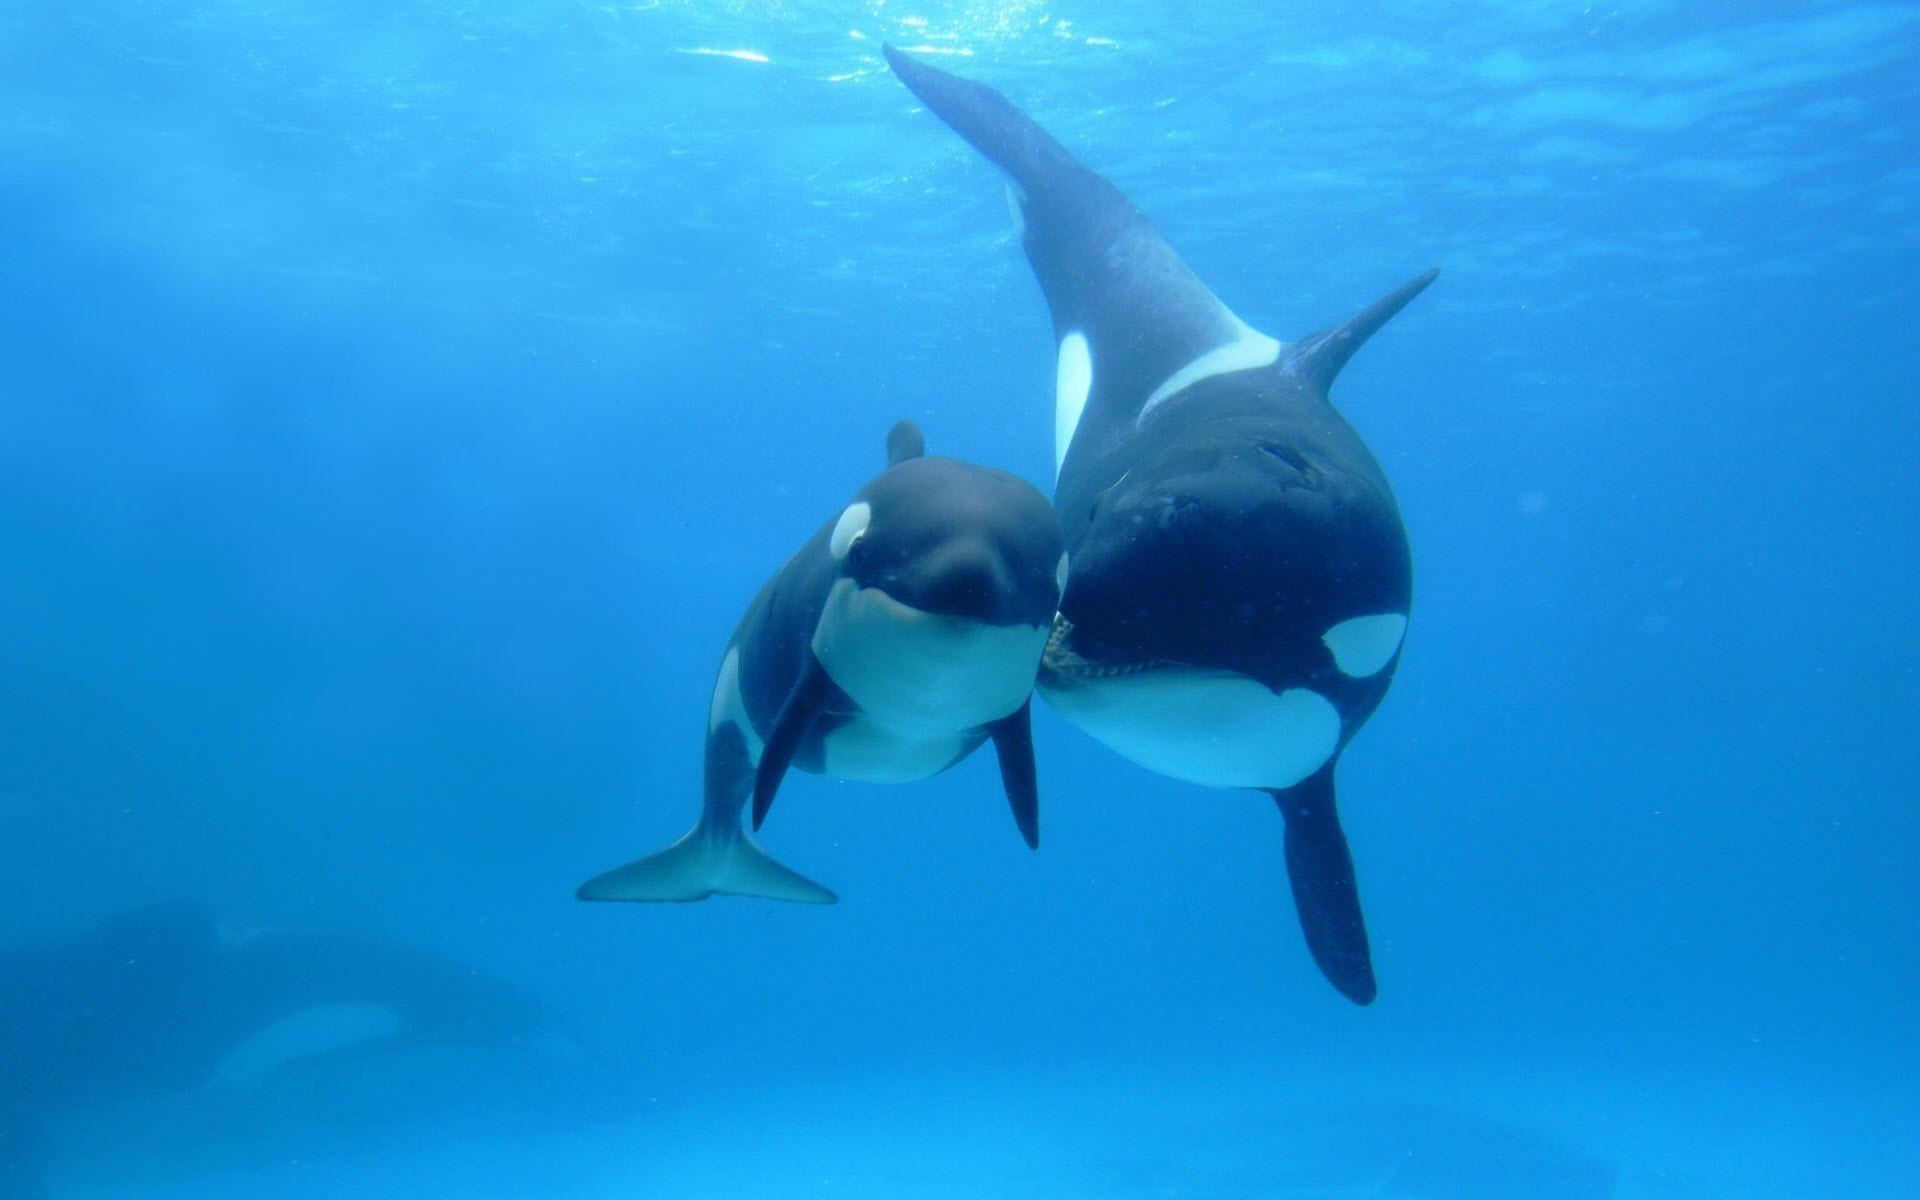fish: (883, 17, 1451, 1006), (563, 416, 1080, 919)
